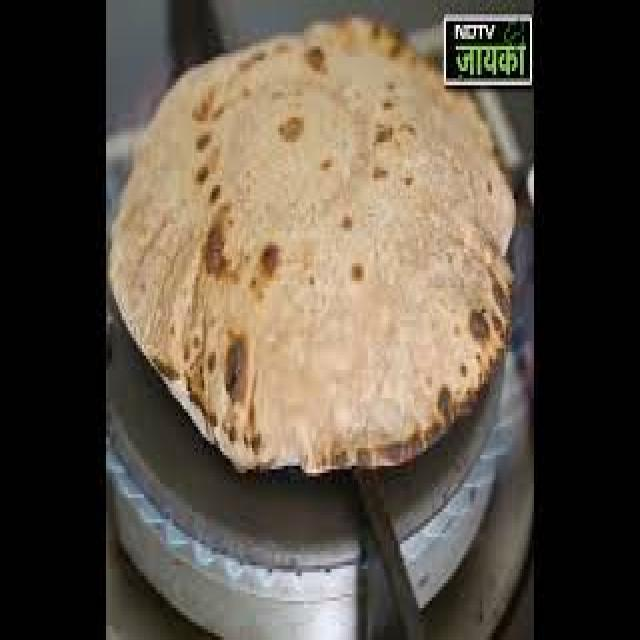ROTI: (112, 17, 518, 476)
